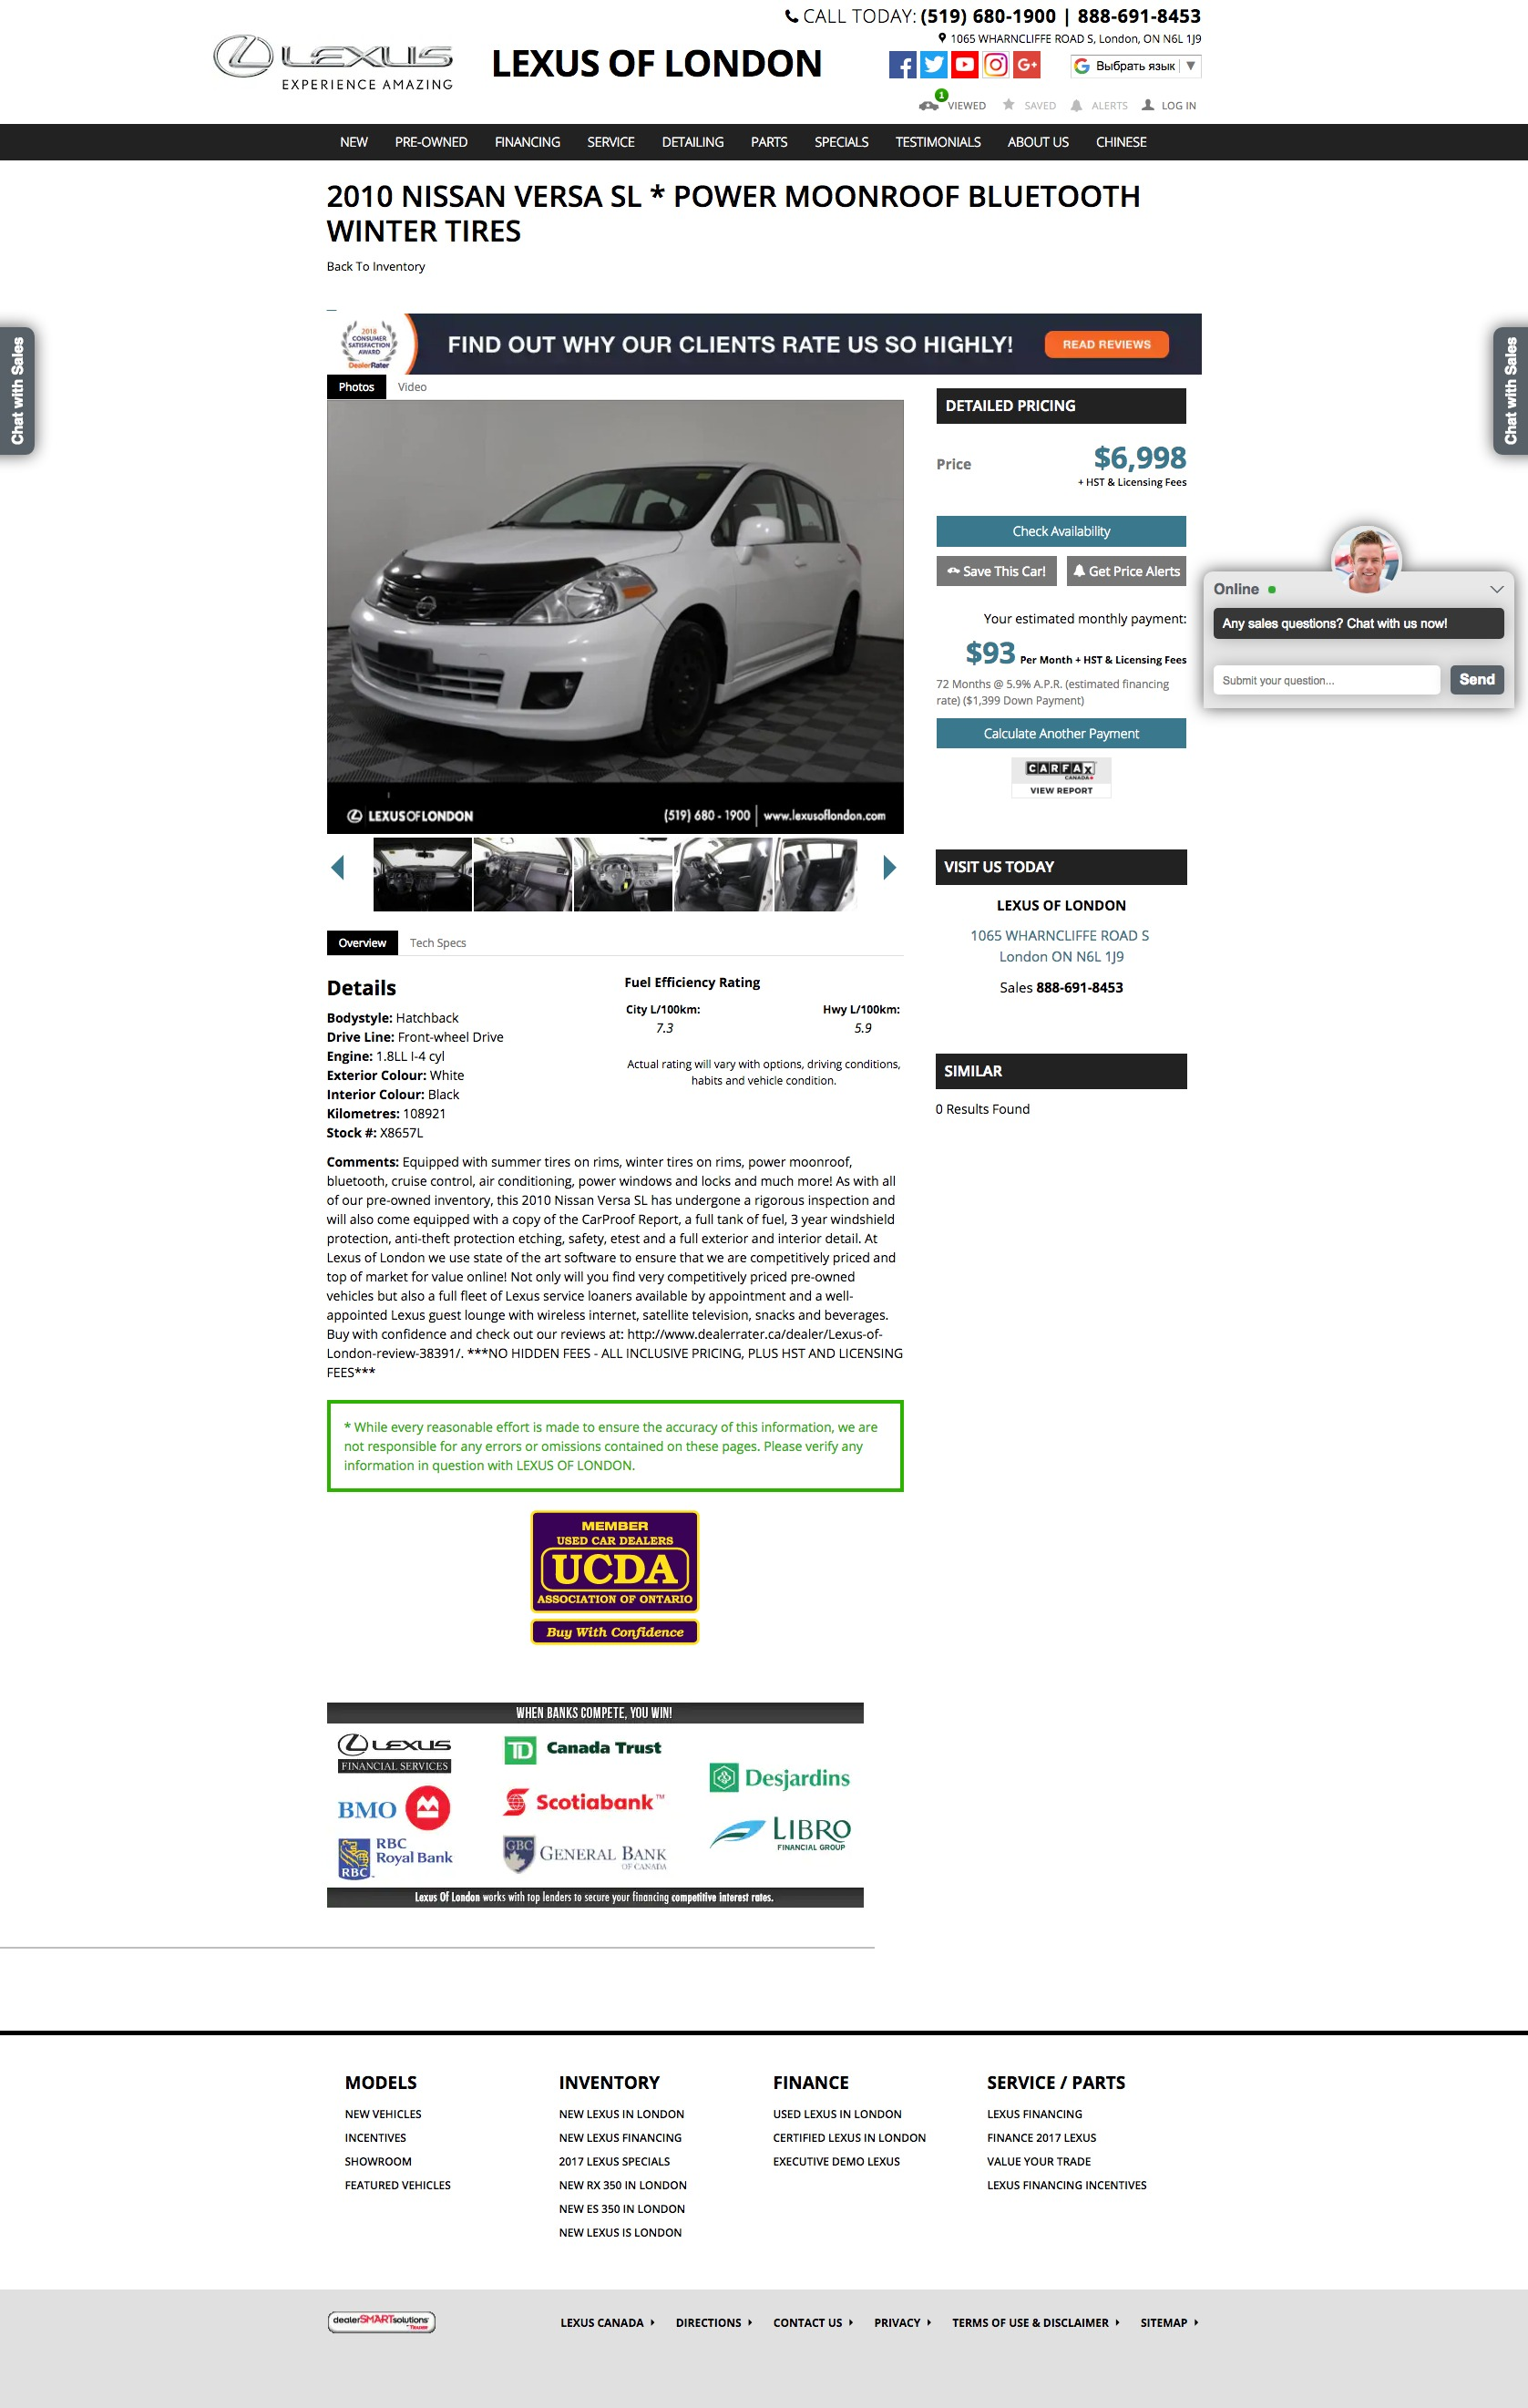car: (882, 855, 898, 881)
